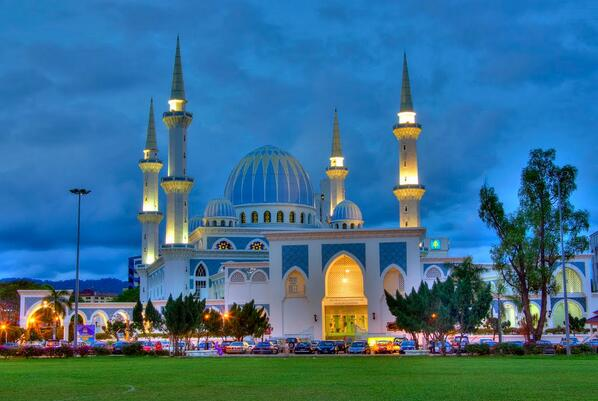Mosque: (99, 39, 432, 330)
